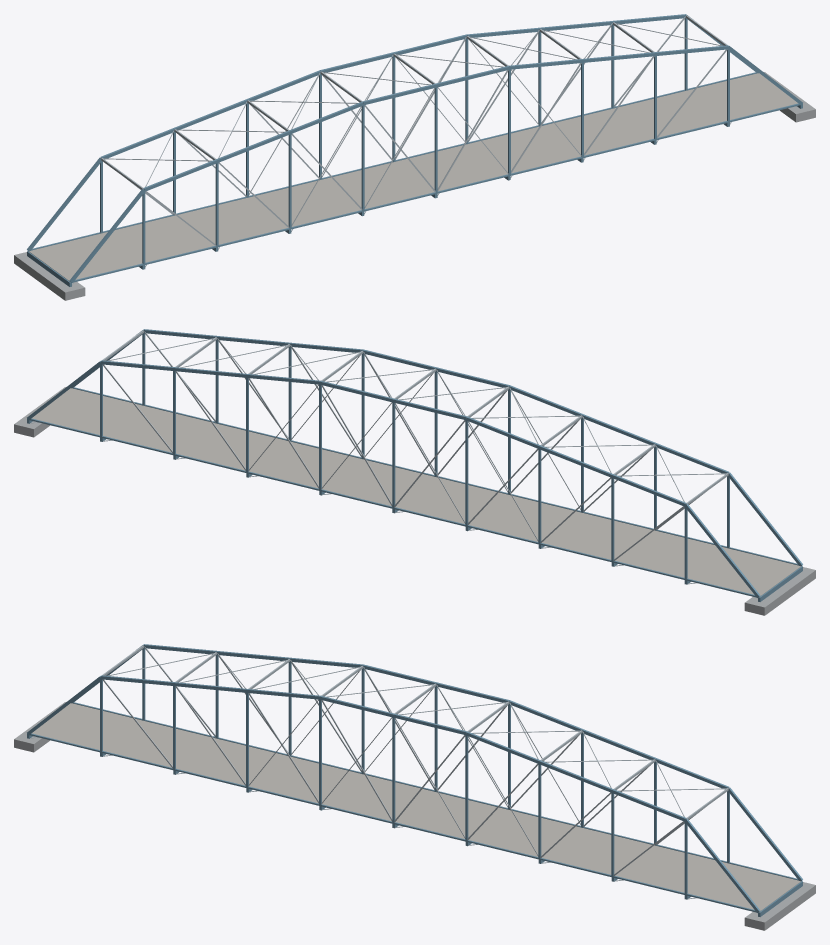
The model's file is bridge.glb.
The picture shows the model from 3 angles, top to bottom: view 1: azimuth 30°, elevation 25°; view 2: azimuth 150°, elevation 25°; view 3: azimuth 330°, elevation 25°; orthographic projection.
Parts seen in each view (by area): view 1: deck_001, bearing_block_001, upper_chord_001, upper_chord_011, bearing_block_002; view 2: deck_001, bearing_block_001, upper_chord_011, upper_chord_001, bearing_block_002; view 3: deck_001, bearing_block_002, upper_chord_010, upper_chord_020, bearing_block_001.
Boxes of the visible parts, box(x1,y1,x2,y2) form: deck_001: box(29, 73, 797, 281); bearing_block_001: box(14, 252, 85, 300); upper_chord_001: box(69, 189, 145, 282); upper_chord_011: box(27, 157, 101, 251); bearing_block_002: box(764, 72, 815, 122); deck_001: box(32, 388, 800, 596); bearing_block_001: box(744, 567, 815, 615); upper_chord_011: box(684, 504, 760, 597); upper_chord_001: box(728, 472, 802, 566); bearing_block_002: box(14, 387, 65, 437); deck_001: box(32, 703, 800, 911); bearing_block_002: box(744, 882, 815, 930); upper_chord_010: box(684, 819, 760, 912); upper_chord_020: box(728, 787, 802, 881); bearing_block_001: box(14, 702, 65, 752).
Size of the model in its own units: 56.36 by 8.76 by 6.66.
